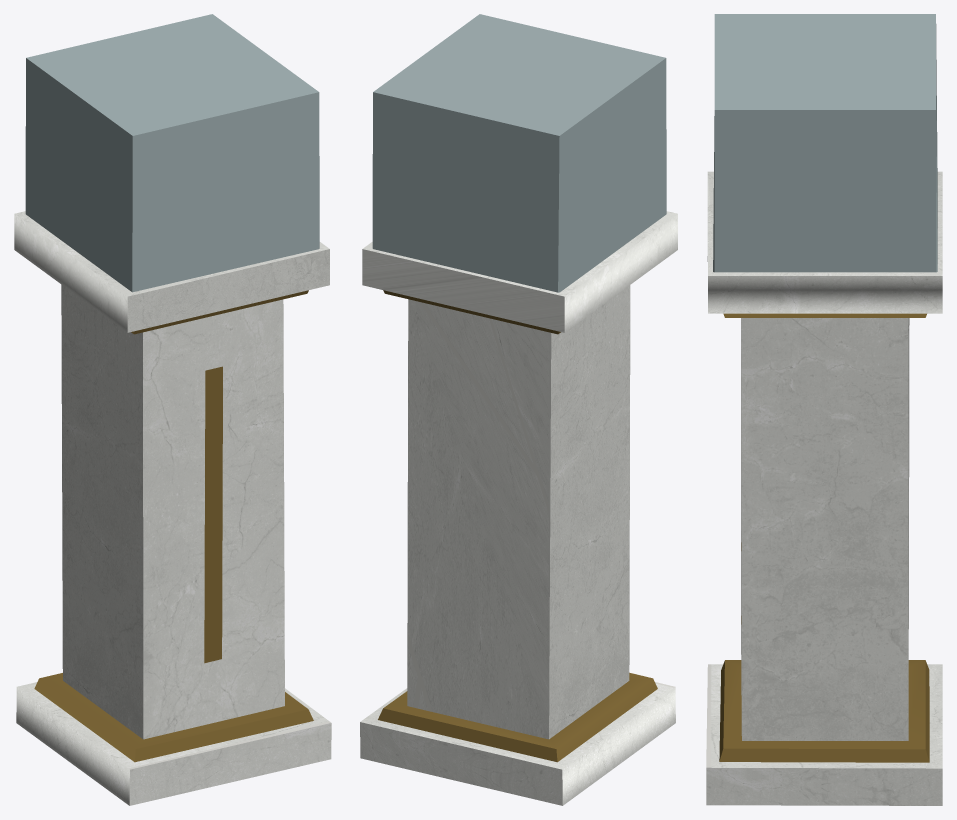
The model's file is PedestalLowPoly.fbx.
3 views of the same model, side by side, from view 1: azimuth 30°, elevation 25°; view 2: azimuth 150°, elevation 25°; view 3: azimuth 270°, elevation 25° (orthographic). The views are drawn at different scales.
Visible parts, largest first — view 1: Pedestal.003; view 2: Pedestal.003; view 3: Pedestal.003.
Part boxes in pixels (box(x1,y1,x2,y2)): Pedestal.003: box(14, 14, 331, 805); Pedestal.003: box(360, 14, 677, 805); Pedestal.003: box(706, 14, 942, 805).
Bounding box in the file's own units: 37.86 × 118 × 36.53.
